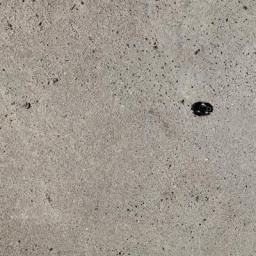FOD: (187, 99, 219, 120)
